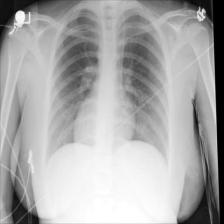normal: (43, 1, 172, 165)
